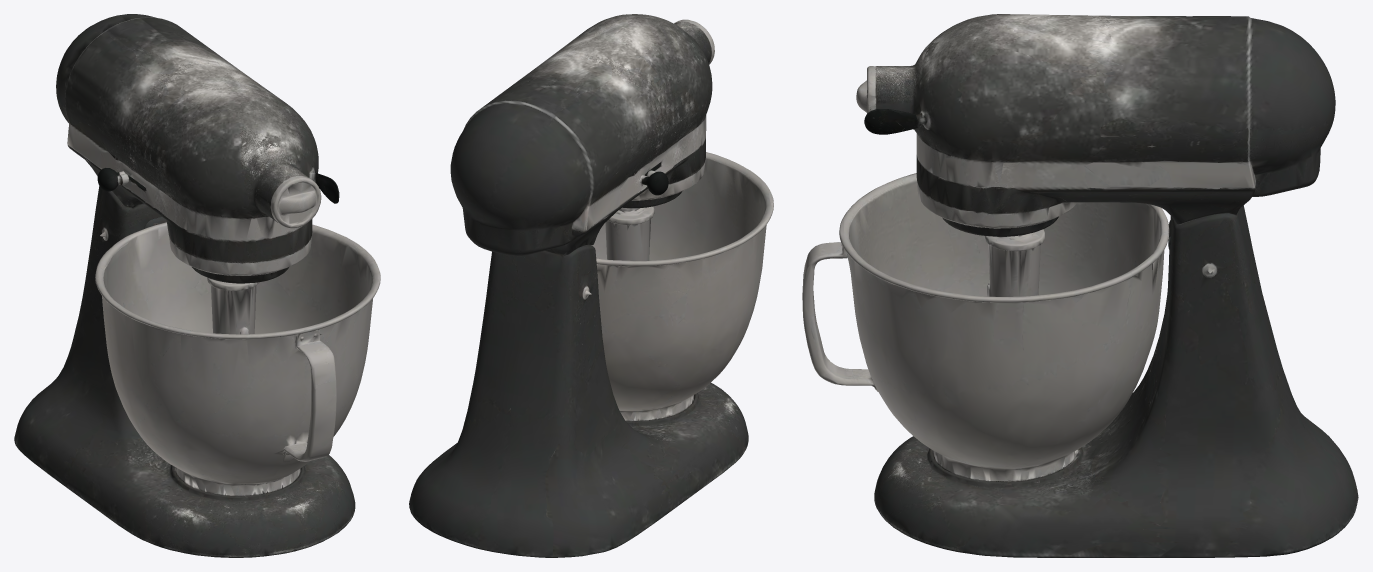
Rendered from desktop.glb.
The picture shows the model from 3 angles, left to right: view 1: azimuth 30°, elevation 25°; view 2: azimuth 150°, elevation 25°; view 3: azimuth 270°, elevation 25°; orthographic projection. The views are drawn at different scales.
Parts seen in each view (by area): view 1: d-standmixer; view 2: d-standmixer; view 3: d-standmixer.
Part boxes in pixels (x1,y1,x2,y2): d-standmixer: [14, 14, 380, 557]; d-standmixer: [409, 14, 773, 557]; d-standmixer: [802, 14, 1358, 557].
Size of the model in its own units: 0.223 by 0.3601 by 0.3806.
Materials: 1 (1 with a texture image).
